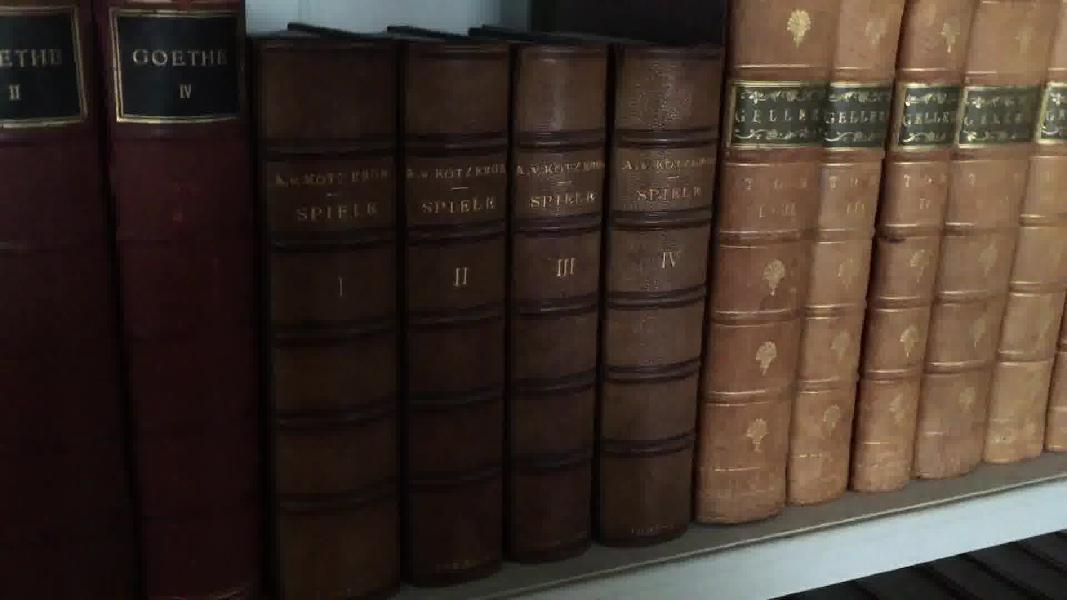Aa6-14_17: (236, 36, 727, 598)
Aa6-18_23: (693, 7, 1067, 538)
